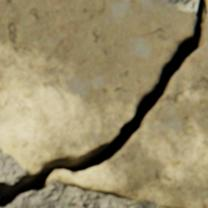broken_brick: (0, 0, 195, 175), (48, 26, 207, 207)
crack: (0, 1, 207, 207)
